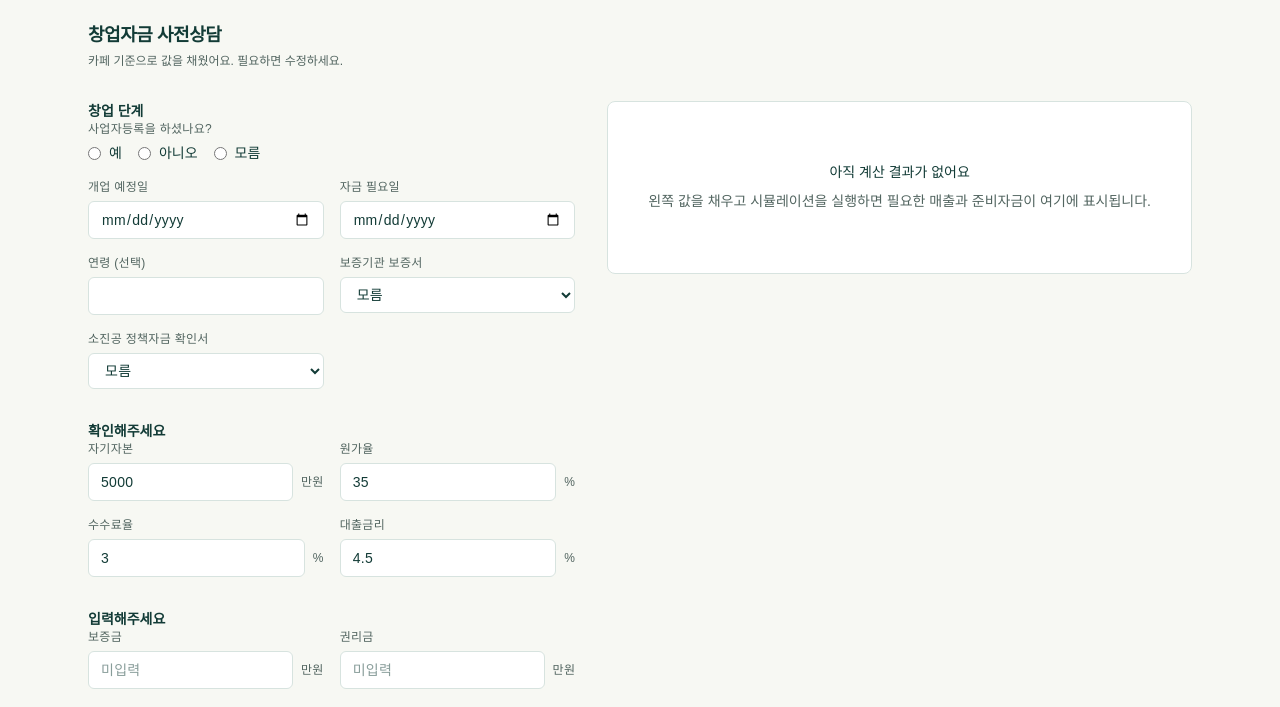
Test: 계산 뒤에도 창업 단계 입력이 남는다
The image size is (1280, 707).
Click the radio button labelled "아니오".
click(144, 153)  # box [138,146,151,160]
(page scrolled)
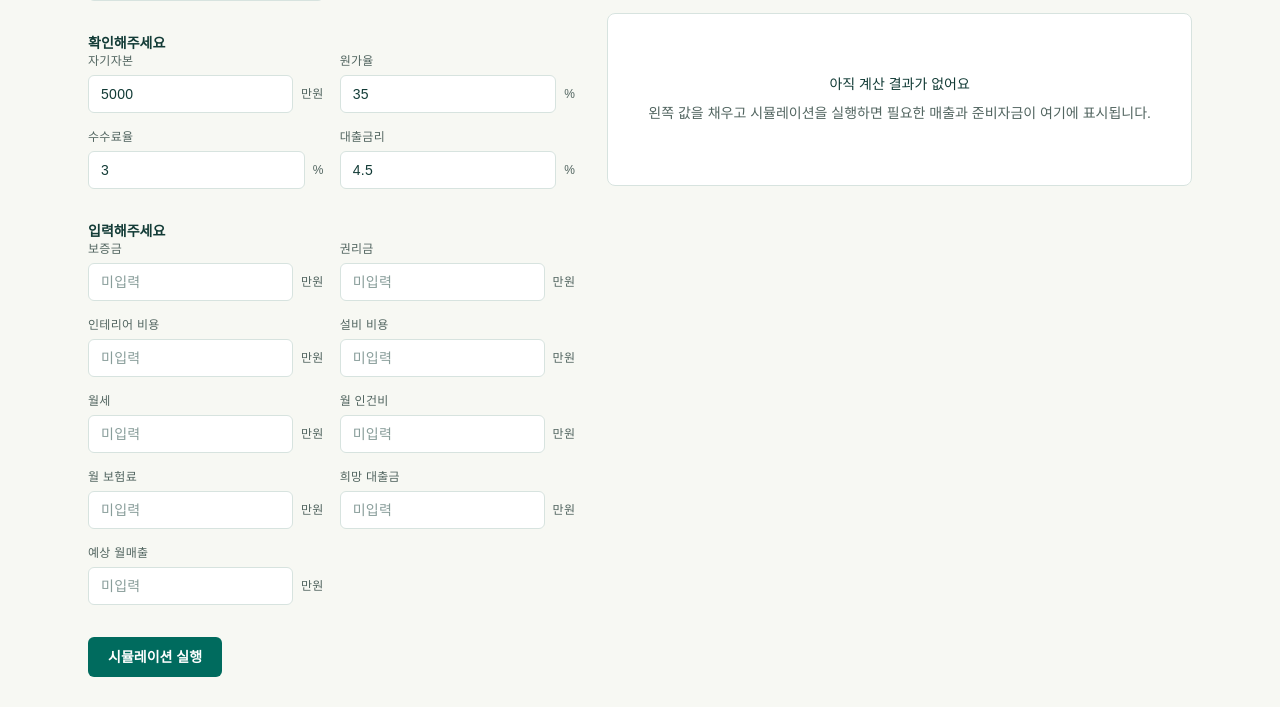
Click the button "시뮬레이션 실행".
click(155, 657)  # box [88,637,222,677]
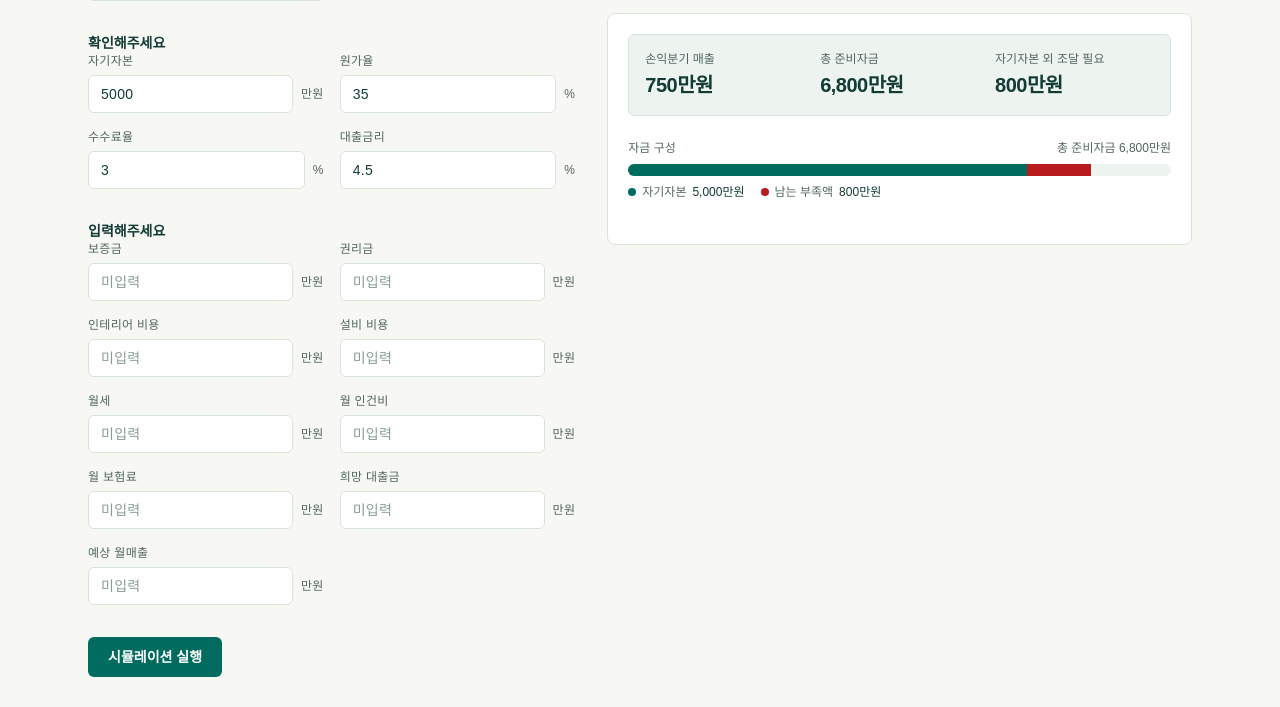
Expected: the text "자기자본 외 조달 필요" is shown, [995,52,1104,66]
